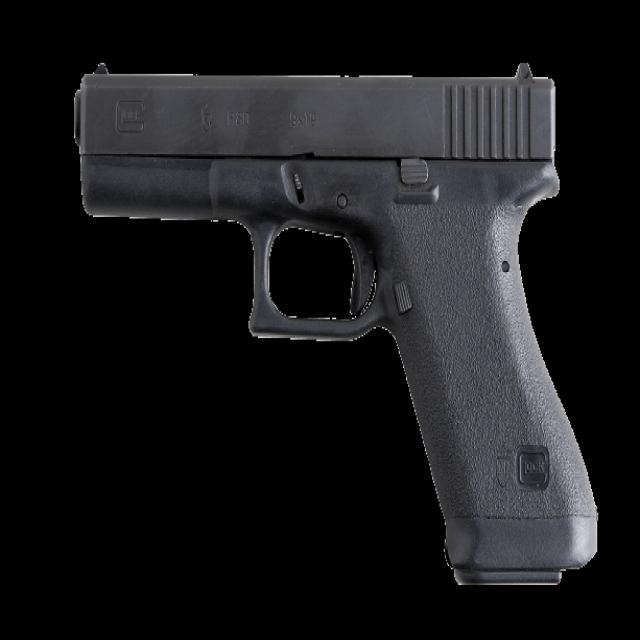handgun: (59, 40, 606, 602)
